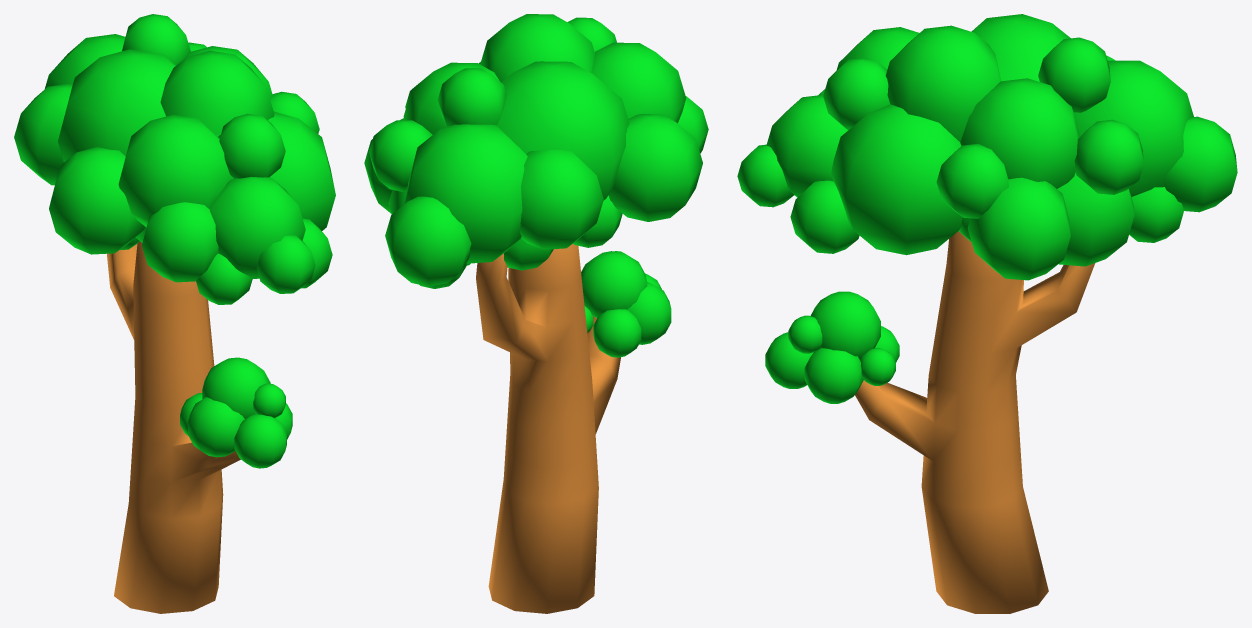
The model's file is TreeNoApple.fbx.
3 renders of one model, left to right at view 1: azimuth 30°, elevation 25°; view 2: azimuth 150°, elevation 25°; view 3: azimuth 270°, elevation 25°, orthographic. The views are drawn at different scales.
Visible parts, largest first — view 1: Circle.001; view 2: Circle.001; view 3: Circle.001.
Boxes of the visible parts, <box> form: Circle.001: <box>14,14,335,613</box>; Circle.001: <box>364,14,708,613</box>; Circle.001: <box>737,14,1237,613</box>.
Bounding box in the file's own units: 929 × 1680 × 1330.
